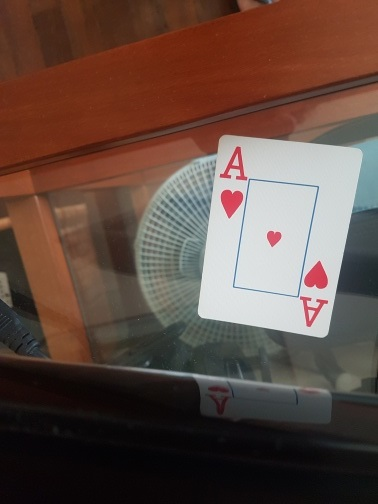ace: (197, 135, 365, 340)
